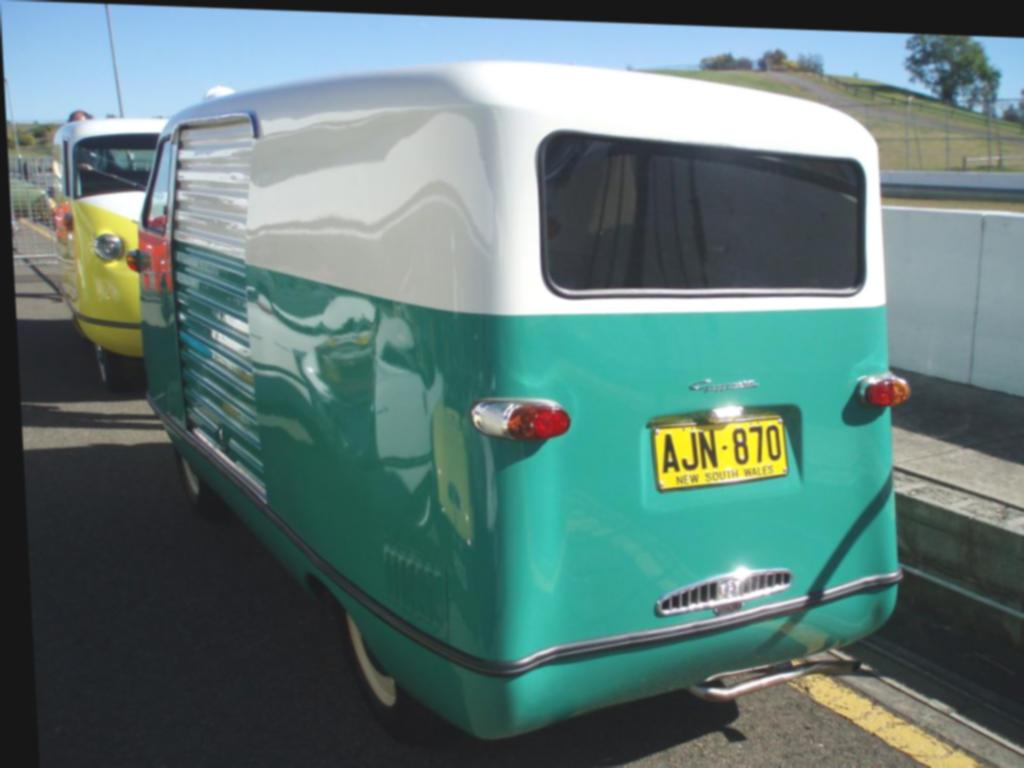License_Plate: (652, 405, 788, 497)
